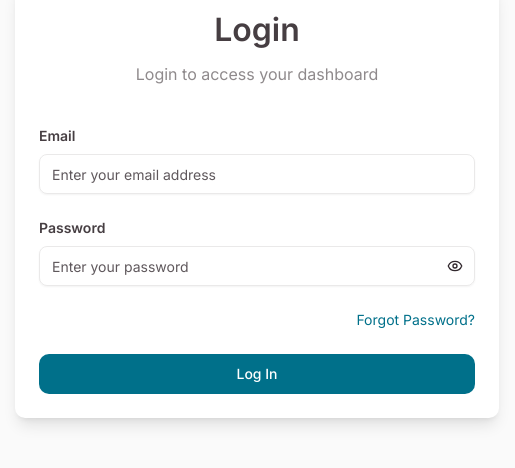
Test case: LoginForm › shows validation error for missing password only
Type "test@example.com" into the field labelled "Email" at (257,174), box [39, 154, 475, 194]
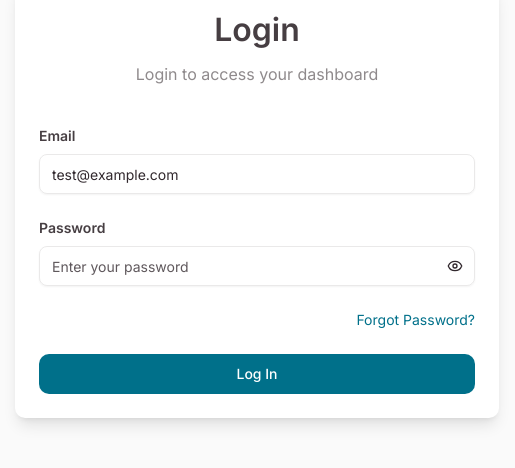
Click the button "Log In" at (257,374), box [39, 354, 475, 394]
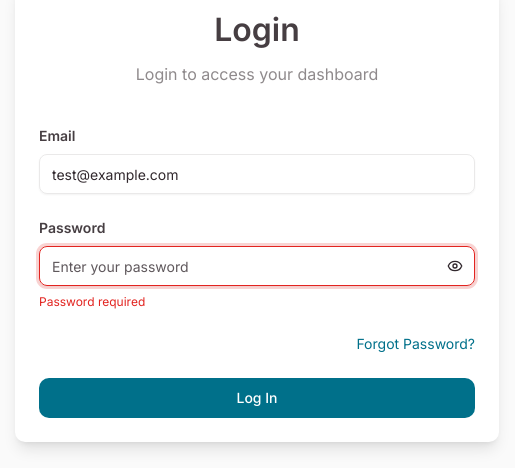
Expected: the text "Password required" is shown, [39, 294, 145, 309]
